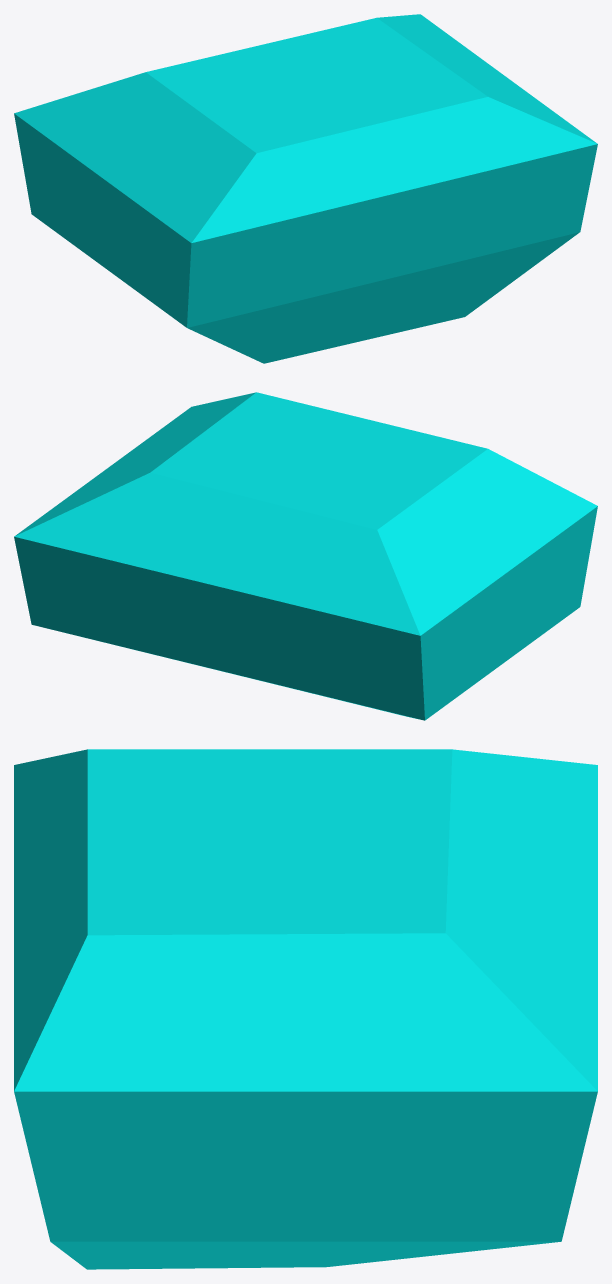
Rendered from SM_Veh_Cart_01_Drone_01_Collision.fbx.
3 renders of one model, top to bottom at view 1: azimuth 30°, elevation 25°; view 2: azimuth 150°, elevation 25°; view 3: azimuth 270°, elevation 25°, orthographic. The views are drawn at different scales.
Parts seen in each view (by area): view 1: SM_Veh_Cart_01_Drone_01_Collision; view 2: SM_Veh_Cart_01_Drone_01_Collision; view 3: SM_Veh_Cart_01_Drone_01_Collision.
Boxes of the visible parts, box(x1,y1,x2,y2) form: SM_Veh_Cart_01_Drone_01_Collision: box(14, 14, 597, 363); SM_Veh_Cart_01_Drone_01_Collision: box(14, 392, 597, 720); SM_Veh_Cart_01_Drone_01_Collision: box(14, 749, 597, 1269).
Size of the model in its own units: 112 by 56.27 by 84.39.
